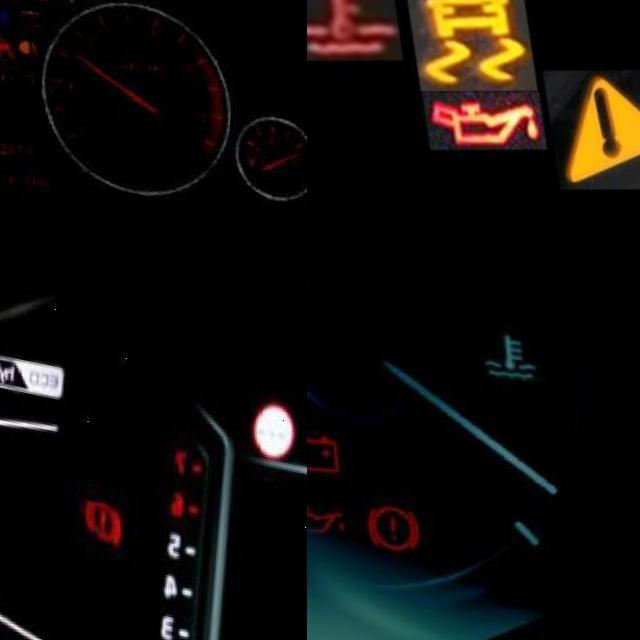Central Warning lamp: (539, 35, 640, 196)
Engine cooling system: (467, 284, 555, 382), (307, 0, 409, 79)
